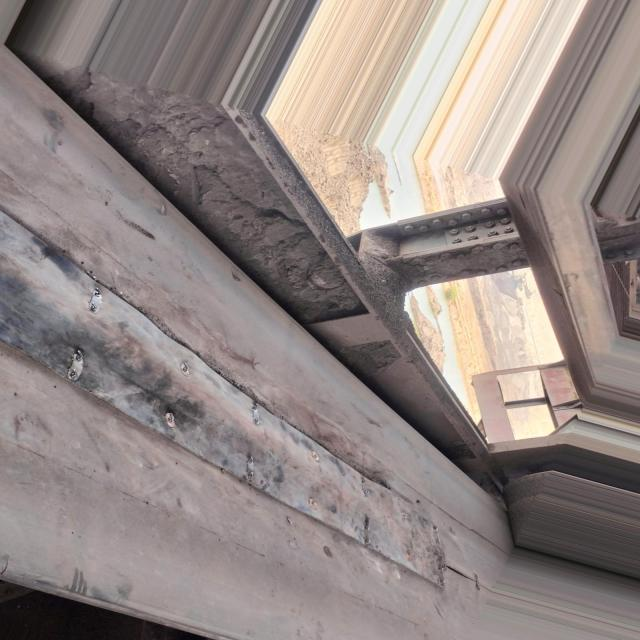patch work: (0, 196, 461, 611)
